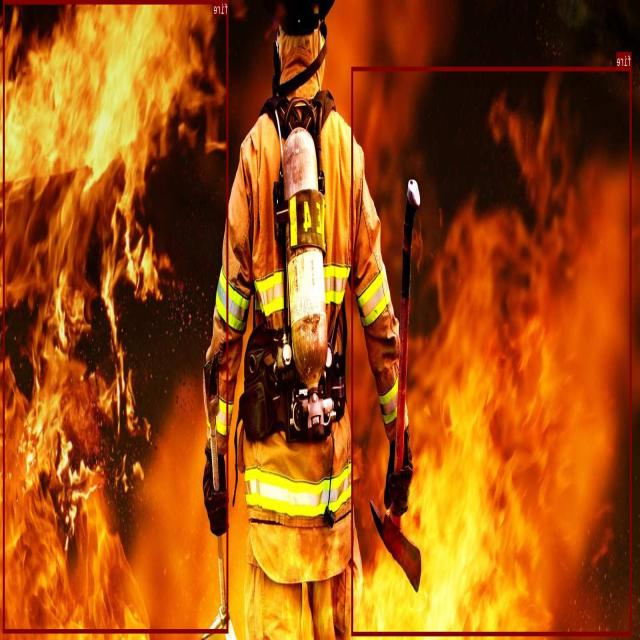fire: (352, 66, 632, 635), (3, 0, 228, 632)
